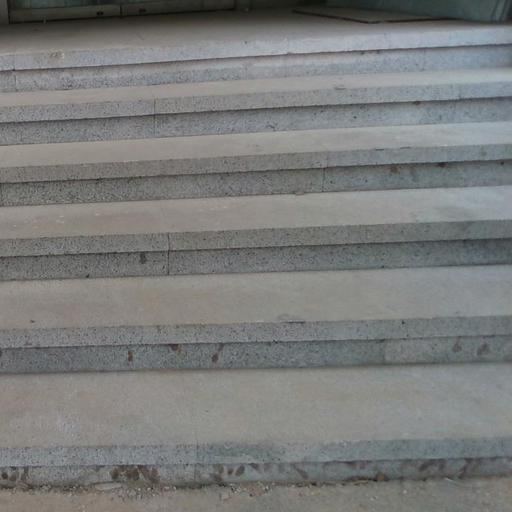stairs: (0, 23, 511, 485)
